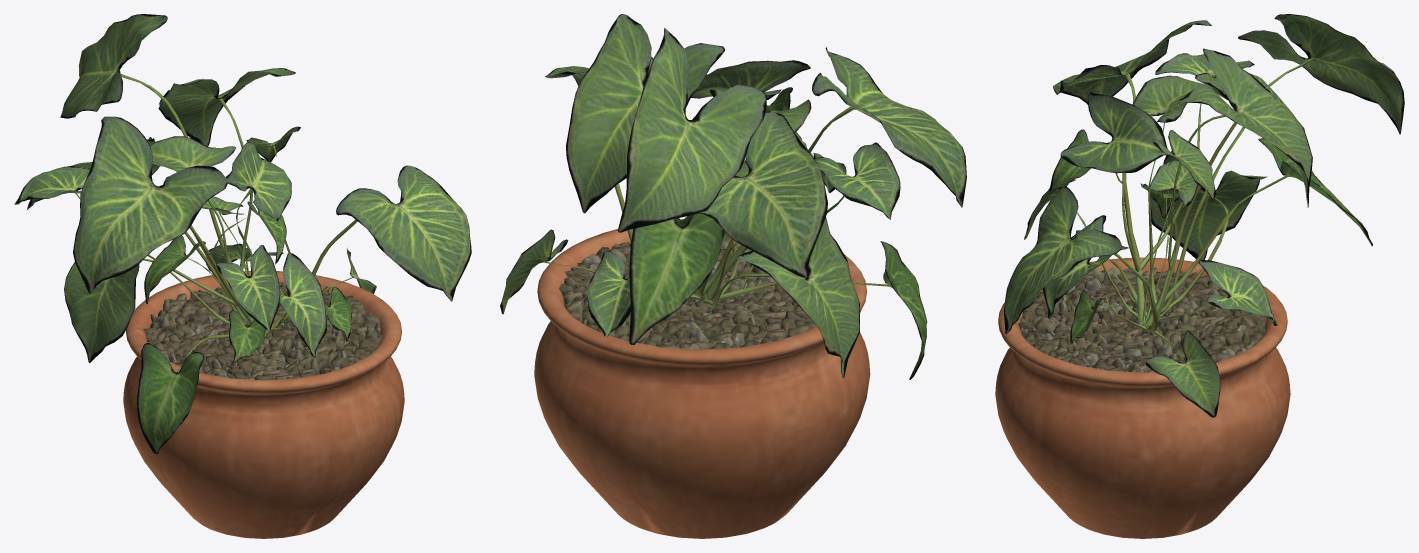
Rendered from plant-floor.glb.
3 views of the same model, side by side, from view 1: azimuth 30°, elevation 25°; view 2: azimuth 150°, elevation 25°; view 3: azimuth 270°, elevation 25° (orthographic). The views are drawn at different scales.
Visible parts, largest first — view 1: potted_plant_02_leaves, potted_plant_02_pot, potted_plant_02_dirt; view 2: potted_plant_02_leaves, potted_plant_02_pot, potted_plant_02_dirt; view 3: potted_plant_02_leaves, potted_plant_02_pot, potted_plant_02_dirt.
Boxes of the visible parts, <box> form: potted_plant_02_leaves: <box>14,14,471,453</box>; potted_plant_02_pot: <box>123,271,404,538</box>; potted_plant_02_dirt: <box>143,282,383,380</box>; potted_plant_02_leaves: <box>500,14,966,379</box>; potted_plant_02_pot: <box>534,219,870,538</box>; potted_plant_02_dirt: <box>559,233,816,349</box>; potted_plant_02_leaves: <box>1004,14,1404,417</box>; potted_plant_02_pot: <box>995,257,1290,538</box>; potted_plant_02_dirt: <box>1018,267,1266,372</box>.
Size of the model in its own units: 0.7009 by 0.8412 by 0.6574.
Materials: 2 (2 with a texture image).
